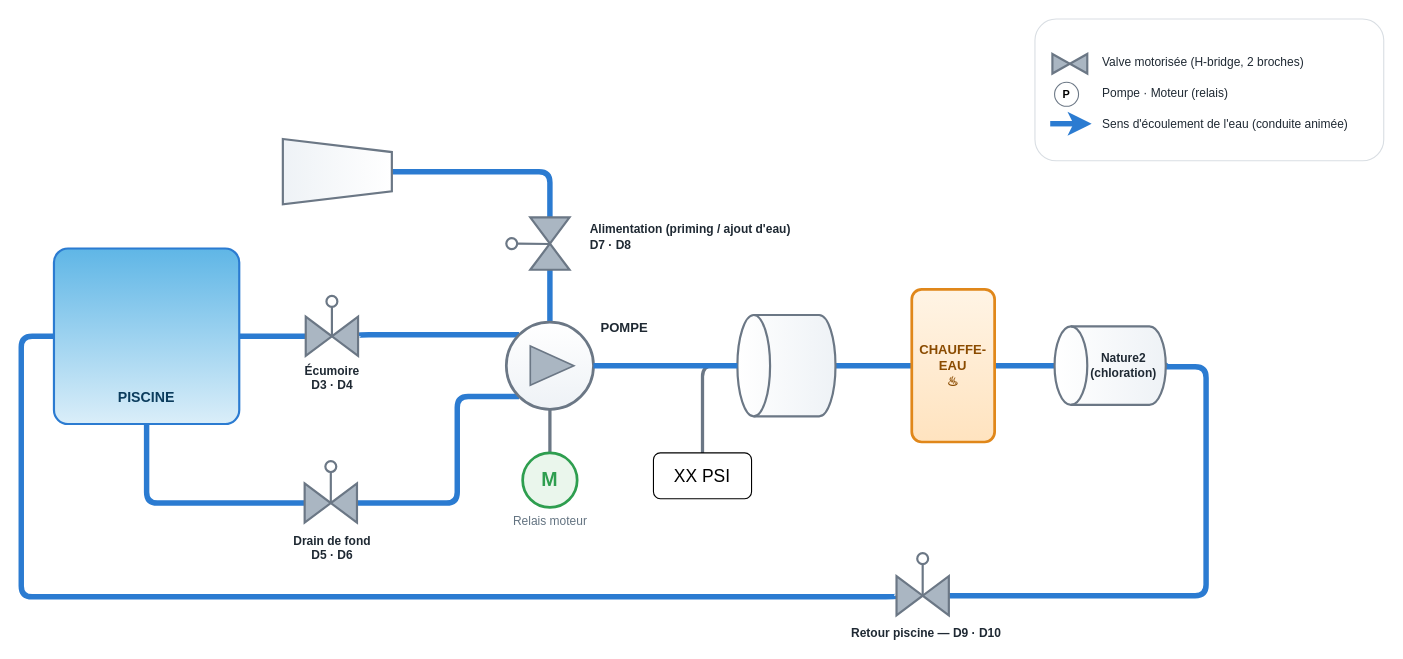
This 1403x659 diagram has some shape labels left out. Here are the shapes that lost their labels. From the top down, the box of each, then its label:
(1034, 18, 1384, 161): Légende
(281, 137, 392, 205): Alimentation d'eau
(736, 313, 836, 417): FILTRE
